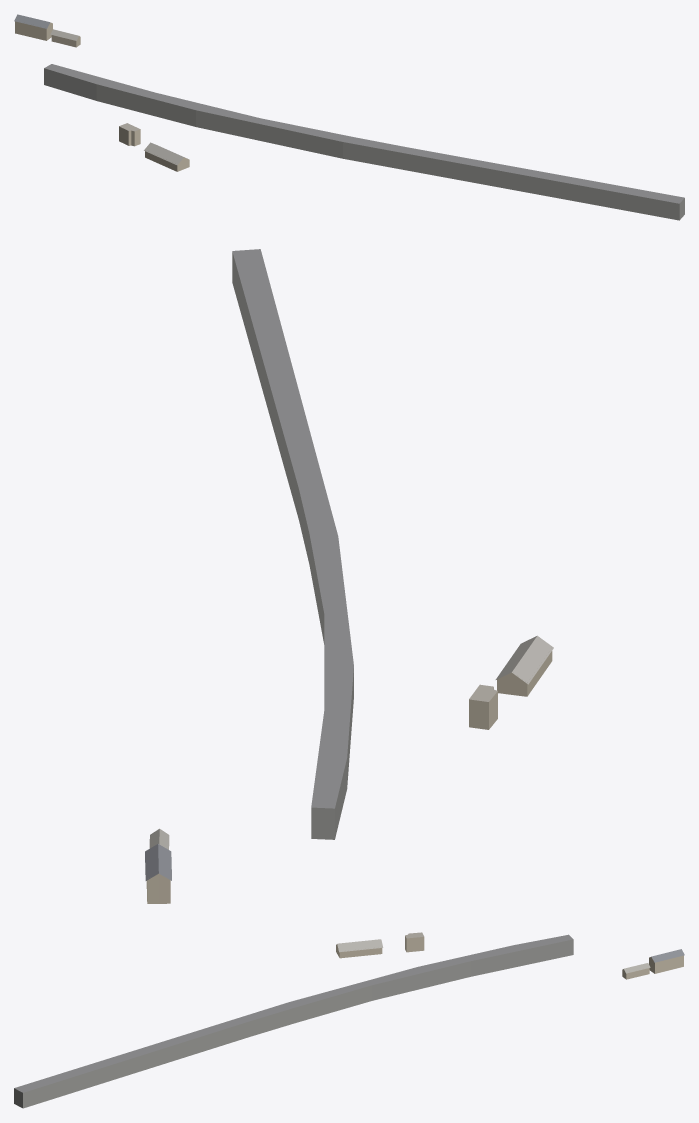
3 views of the same model, one above another, from view 1: azimuth 30°, elevation 25°; view 2: azimuth 150°, elevation 25°; view 3: azimuth 270°, elevation 25° (orthographic). The views are drawn at different scales.
Parts seen in each view (by area): view 1: tuile; view 2: tuile; view 3: tuile.
Part boxes in pixels (x1,y1,x2,y2): tuile: (14,14,684,220); tuile: (145,249,553,903); tuile: (14,932,684,1108).
Bounding box in the file's own units: 170 × 8.31 × 301.
